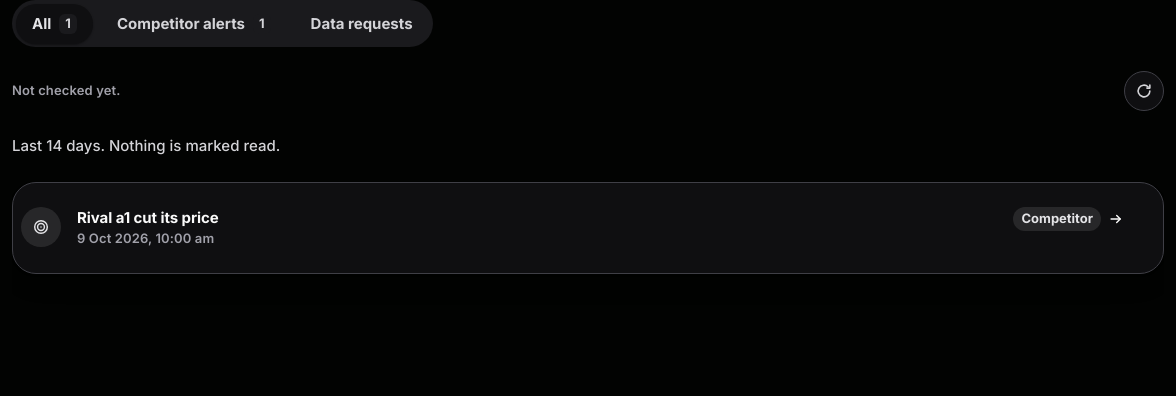
Test: Action Center › switches tabs and shows that tab's own empty state
The width and height of the screenshot is (1176, 396).
Click the tab "Data requests". click: (362, 24)
box: [295,4,429,44]
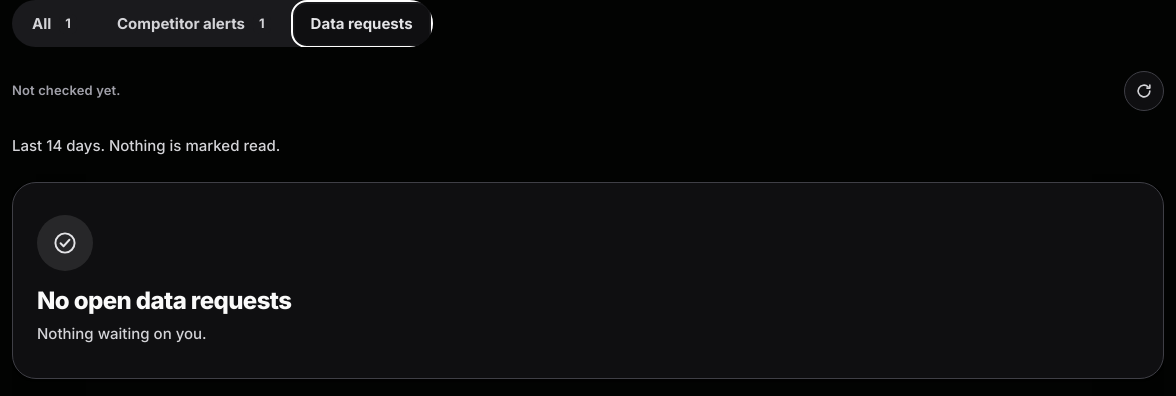
Result: the heading "No open data requests" is shown at [37,286,291,315]
